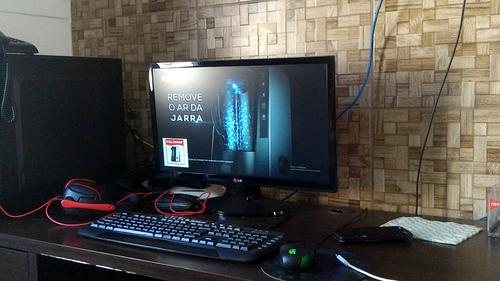Polishop #1: (163, 137, 189, 165)
